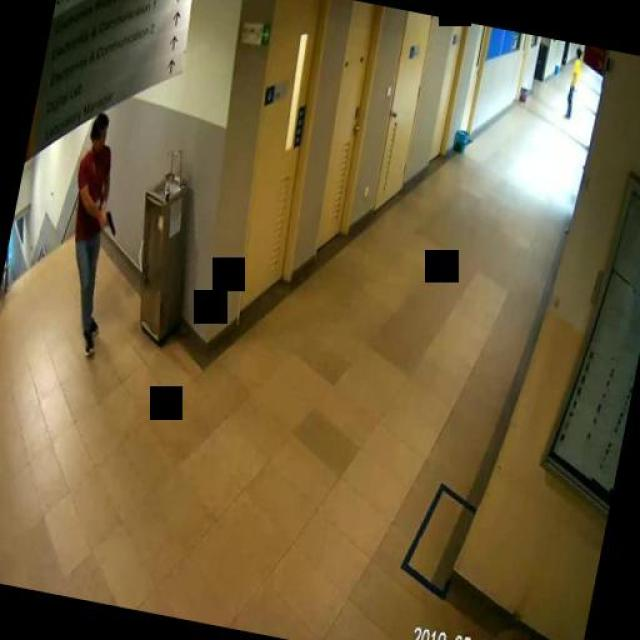gun: (98, 206, 119, 234)
